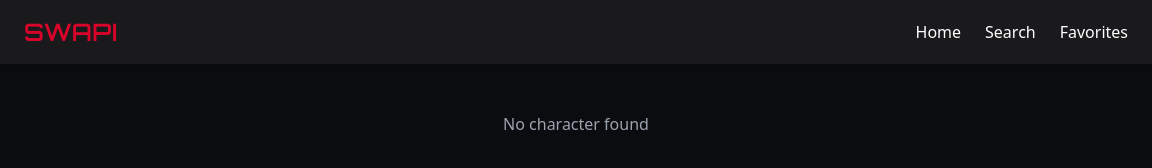
Scenario: Top Navigation Bar Routes › navigates to favorites page via Favorites link
Click the link with test id "favorites-route-link": (1094, 32) [1060, 20, 1128, 44]
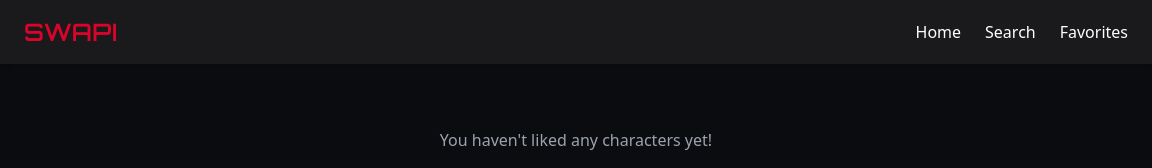
expect the element with test id "favorite-list-page" is shown: met, box [440, 129, 712, 151]
